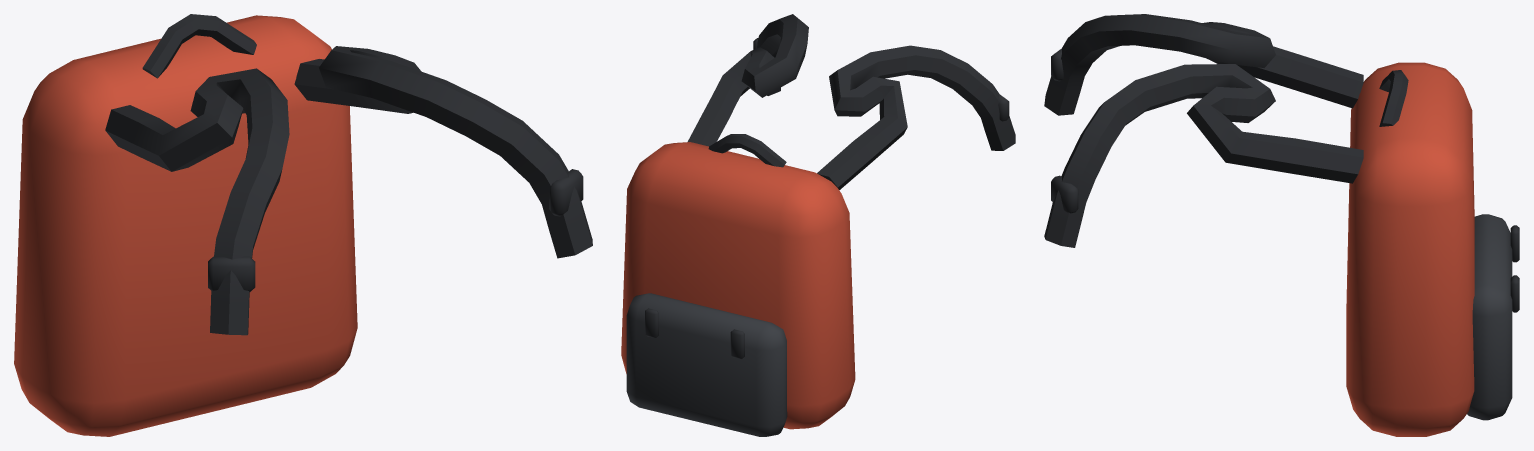
Rendered from Char_Top_Backpack.fbx.
3 views of the same model, side by side, from view 1: azimuth 30°, elevation 25°; view 2: azimuth 150°, elevation 25°; view 3: azimuth 270°, elevation 25° (orthographic). The views are drawn at different scales.
Parts seen in each view (by area): view 1: Backpack, Straps; view 2: Backpack, Straps, Pocket; view 3: Backpack, Straps, Pocket.
Boxes of the visible parts, x1,y1,x2,y2 form: Backpack: (14, 15, 357, 436); Straps: (105, 14, 592, 335); Backpack: (621, 142, 855, 429); Straps: (645, 14, 1015, 359); Pocket: (626, 293, 787, 436); Backpack: (1346, 62, 1474, 436); Straps: (1044, 14, 1519, 312); Pocket: (1467, 214, 1512, 420).
Size of the model in its own units: 121 by 130 by 161.
